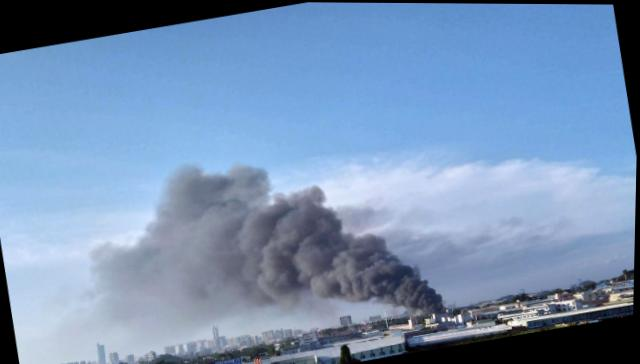smoke: (145, 206, 346, 311), (162, 166, 266, 232), (312, 236, 398, 299), (103, 233, 157, 308), (377, 268, 423, 300), (279, 189, 318, 214), (410, 284, 441, 309)
